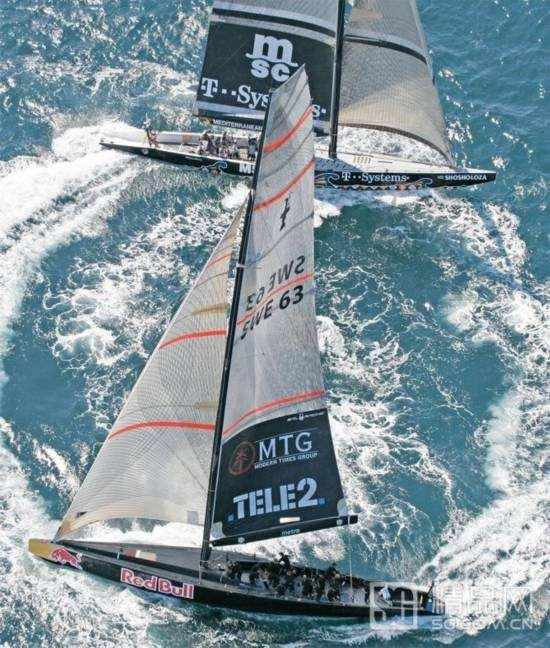fanchuan: (26, 62, 476, 622)
